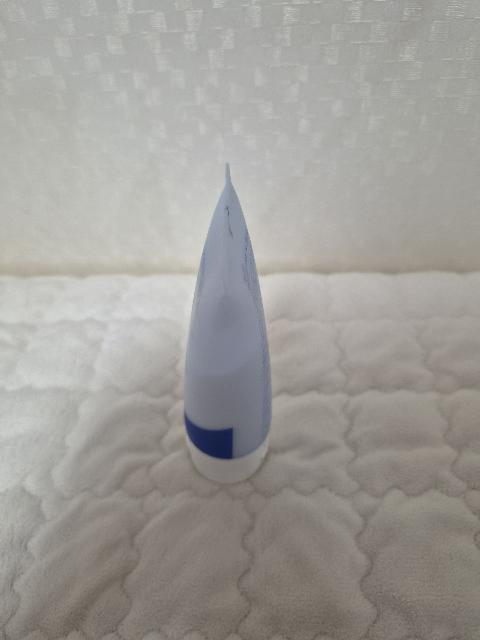handcream: (183, 162, 272, 483)
